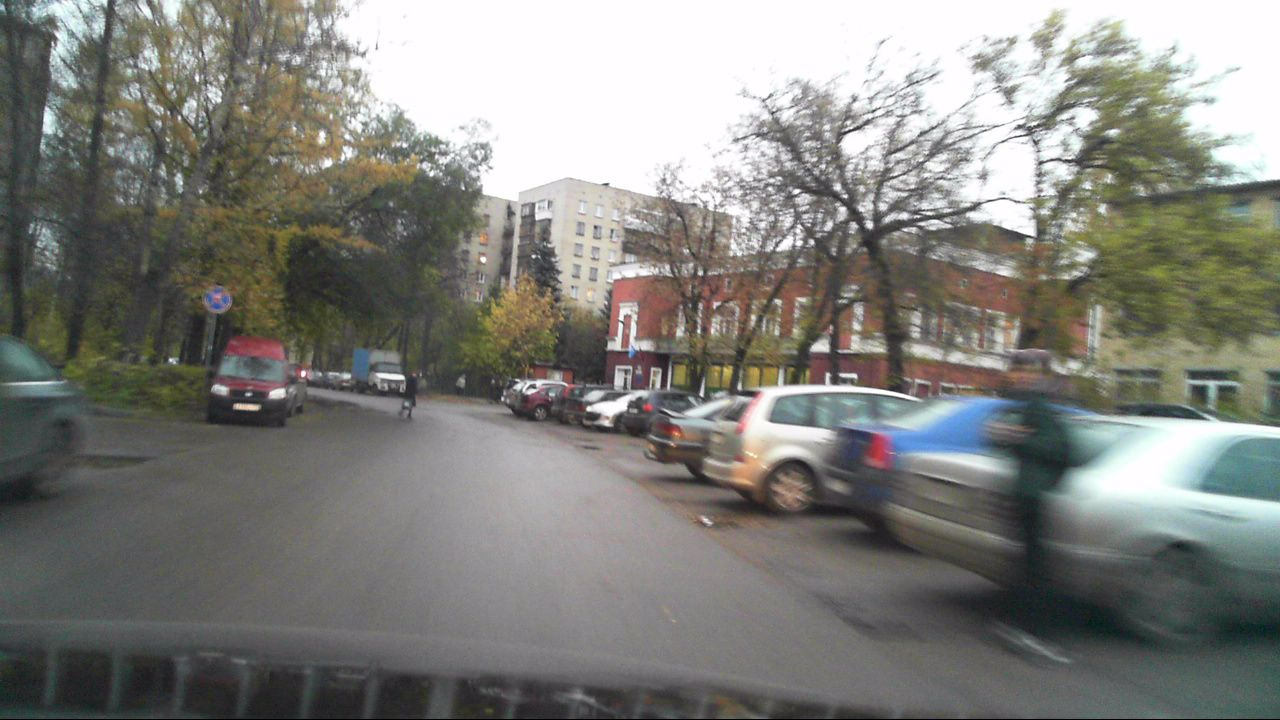No Parking: (203, 285, 231, 314)
